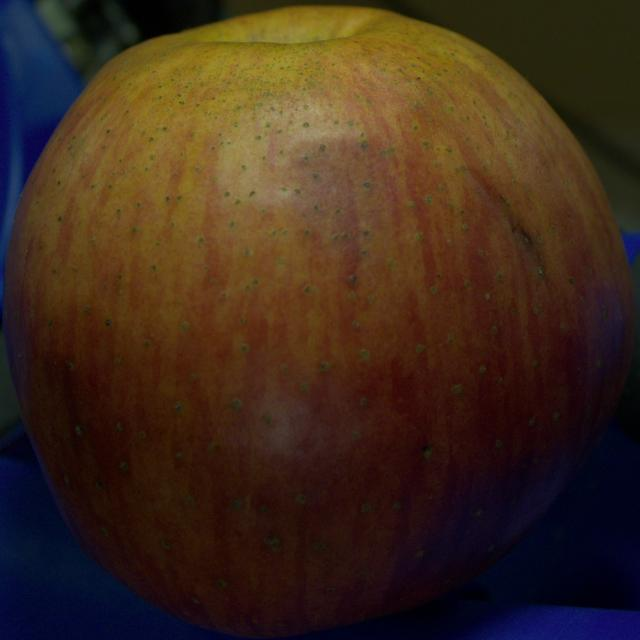apple: (2, 7, 632, 635)
pest: (423, 447, 432, 459)
scratch: (465, 164, 552, 294)
